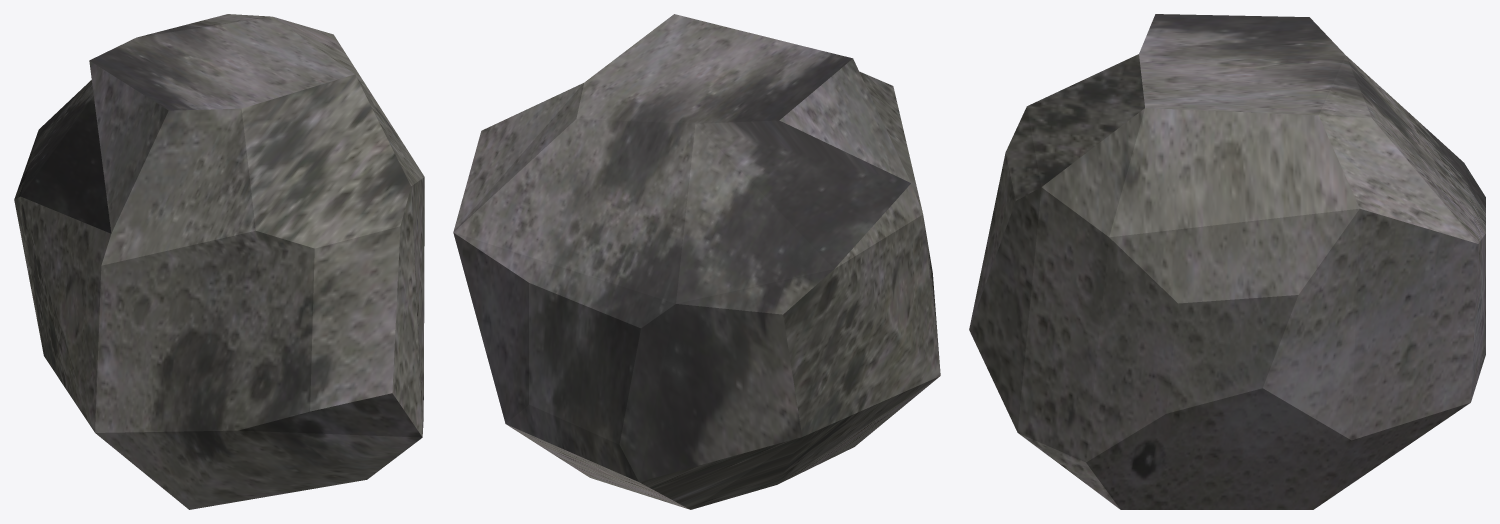
Rendered from asteroid3.obj.
3 renders of one model, left to right at view 1: azimuth 30°, elevation 25°; view 2: azimuth 150°, elevation 25°; view 3: azimuth 270°, elevation 25°, orthographic.
Visible parts, largest first — view 1: Cube; view 2: Cube; view 3: Cube.
Part boxes in pixels (x1=…): Cube: x1=14, y1=14, x2=424, y2=509; Cube: x1=453, y1=14, x2=940, y2=509; Cube: x1=969, y1=14, x2=1485, y2=509.
Size of the model in its own units: 9.94 by 10.58 by 12.2.
Materials: 1 (1 with a texture image).
